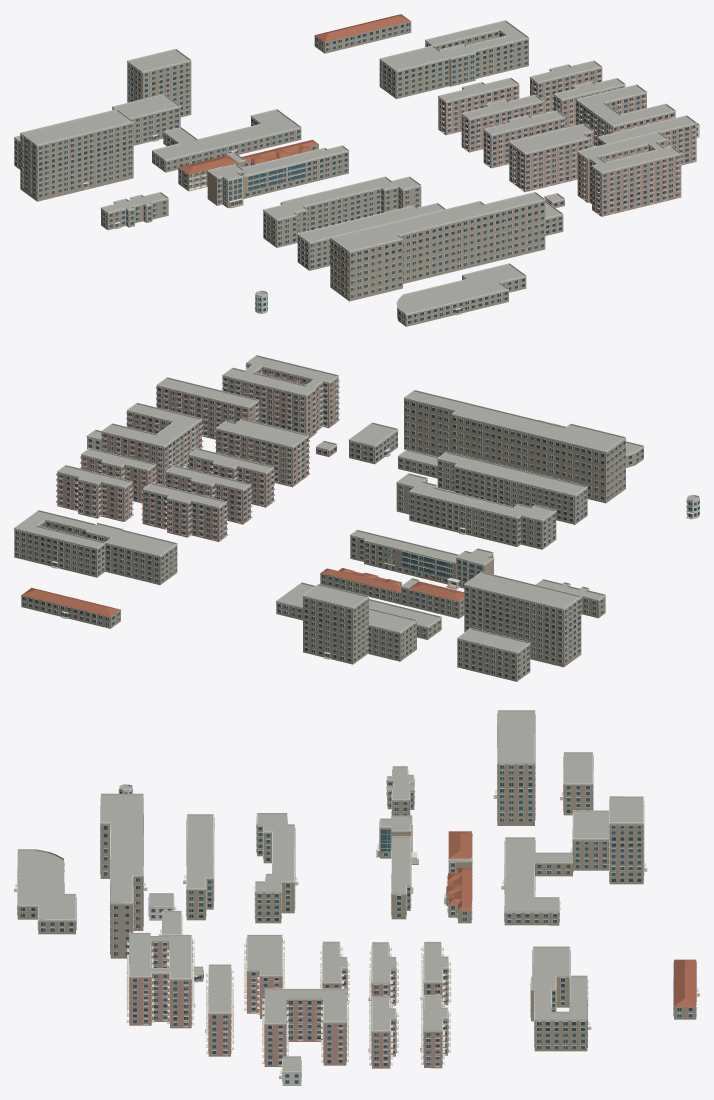
Rendered from chunk-n1-n3.glb.
The picture shows the model from 3 angles, top to bottom: view 1: azimuth 30°, elevation 25°; view 2: azimuth 150°, elevation 25°; view 3: azimuth 270°, elevation 25°; orthographic projection. The views are drawn at different scales.
Visible parts, largest first — view 1: chunk-n1-n3; view 2: chunk-n1-n3; view 3: chunk-n1-n3.
Boxes of the visible parts, x1=… form: chunk-n1-n3: x1=14, y1=14, x2=699, y2=326; chunk-n1-n3: x1=14, y1=355, x2=699, y2=681; chunk-n1-n3: x1=14, y1=710, x2=699, y2=1085.
Size of the model in its own units: 370 by 38.86 by 347.
Materials: 8 (2 with a texture image).
